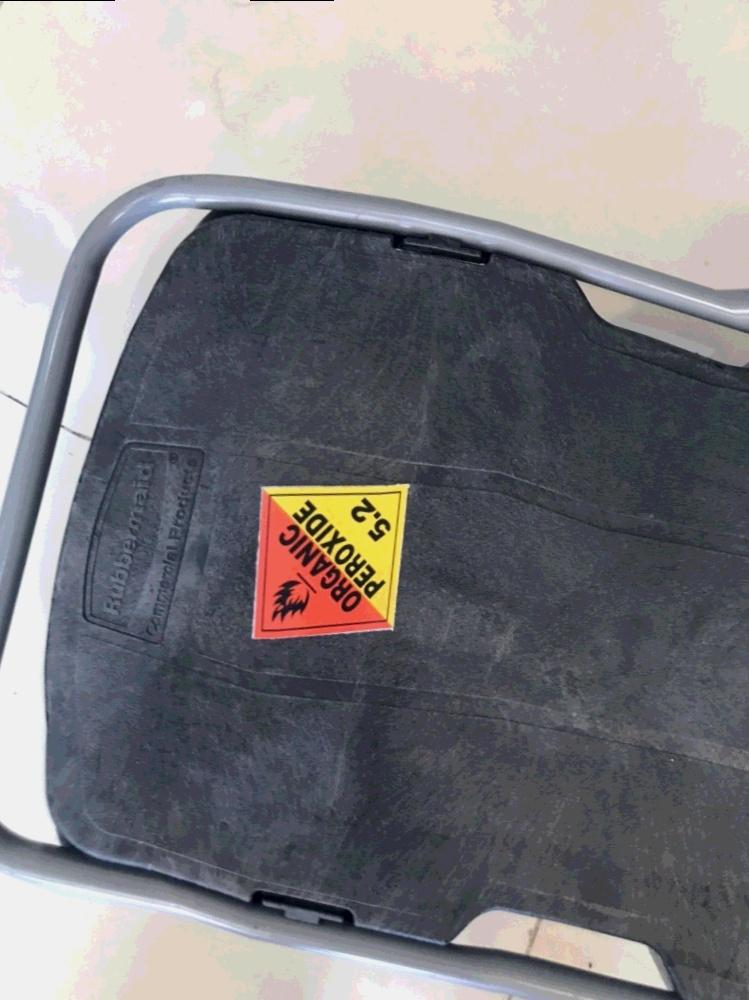organic-peroxide: (250, 479, 408, 645)
